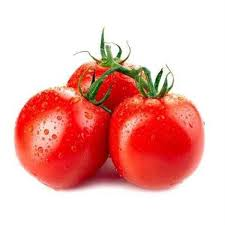tomate: (28, 46, 208, 197)
